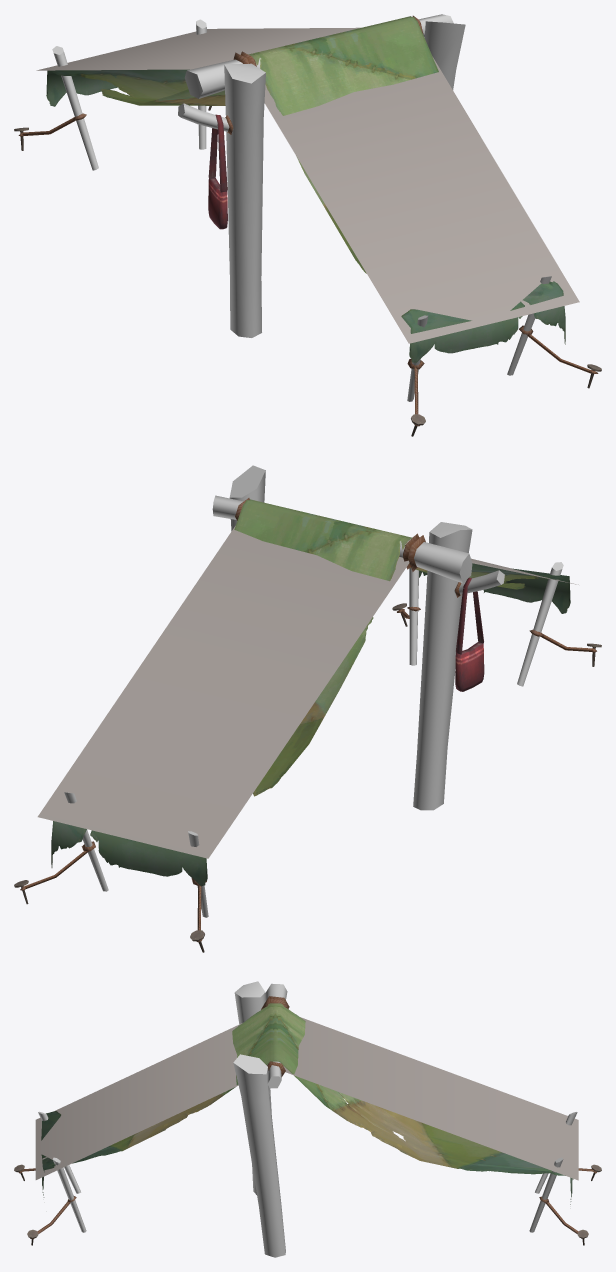
File: Homeworld_Exterior_Common_Build_Store_11_Lod0.fbx
The picture shows the model from 3 angles, top to bottom: view 1: azimuth 30°, elevation 25°; view 2: azimuth 150°, elevation 25°; view 3: azimuth 270°, elevation 25°; orthographic projection. The views are drawn at different scales.
Visible parts, largest first — view 1: Area_Common_Build_Camp_A_03_Ocl, Area_Common_Build_Camp_A_03_Lod0; view 2: Area_Common_Build_Camp_A_03_Ocl, Area_Common_Build_Camp_A_03_Lod0; view 3: Area_Common_Build_Camp_A_03_Ocl, Area_Common_Build_Camp_A_03_Lod0.
Part boxes in pixels (<box>): Area_Common_Build_Camp_A_03_Ocl: <box>36,27,579,343</box>; Area_Common_Build_Camp_A_03_Lod0: <box>14,14,601,436</box>; Area_Common_Build_Camp_A_03_Ocl: <box>37,526,578,858</box>; Area_Common_Build_Camp_A_03_Lod0: <box>14,465,601,952</box>; Area_Common_Build_Camp_A_03_Ocl: <box>35,1017,578,1180</box>; Area_Common_Build_Camp_A_03_Lod0: <box>14,981,601,1257</box>.
Bounding box in the file's own units: 3.51 × 3.32 × 8.74.
